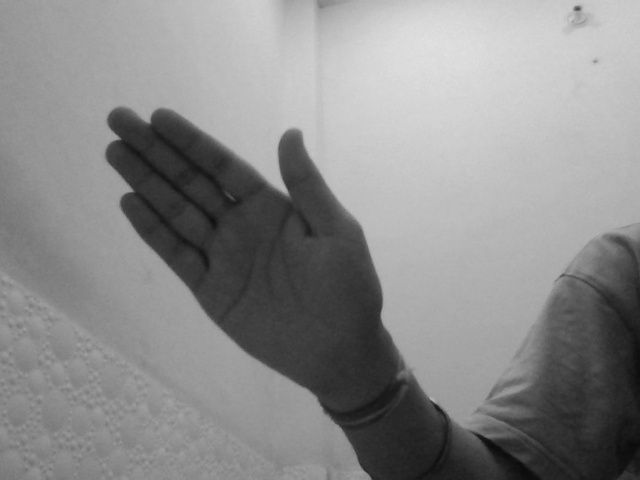Hello: (98, 103, 396, 392)
